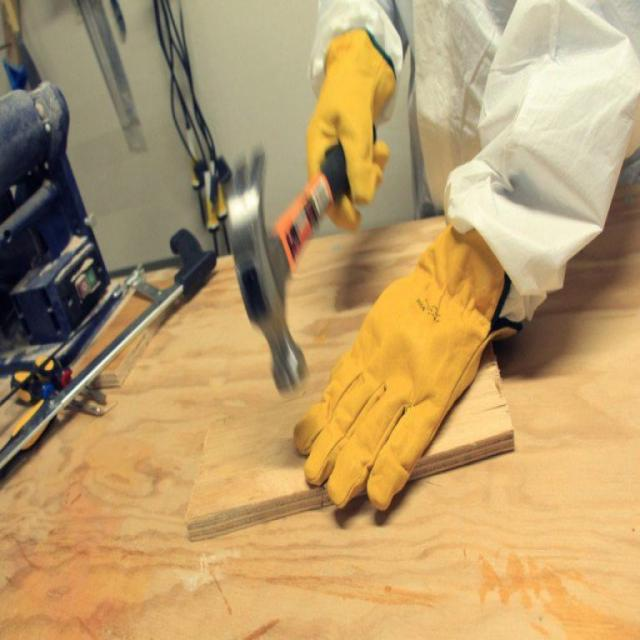gloves: (292, 205, 523, 517), (305, 25, 396, 230)
